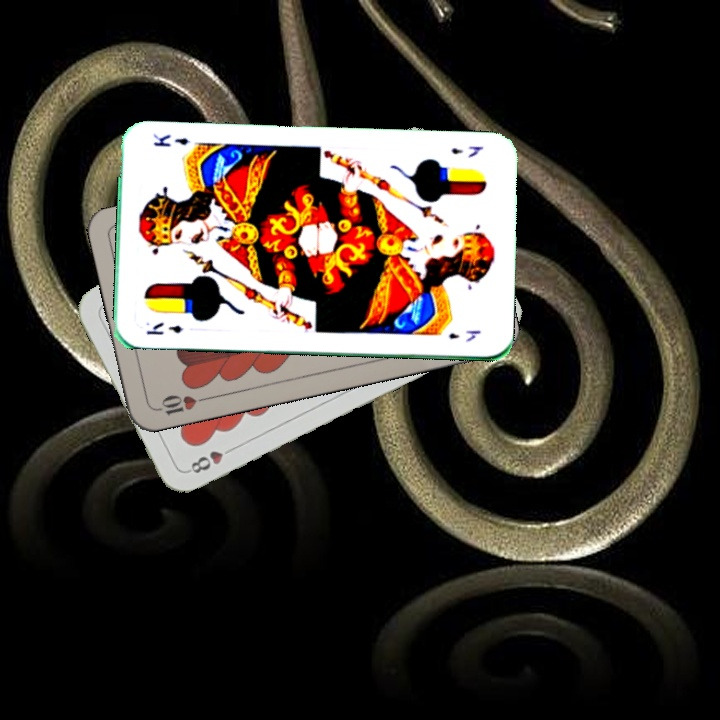EK: (142, 318, 185, 338), (447, 142, 486, 160)
H10: (152, 390, 211, 418)
H8: (183, 442, 238, 476)
